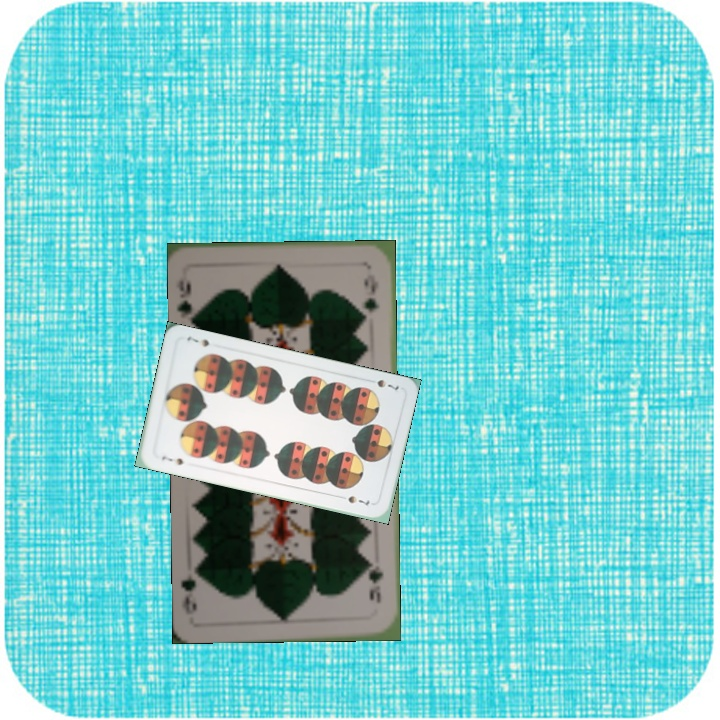G9: (174, 276, 202, 327), (364, 555, 385, 606)
S7: (363, 374, 402, 393), (157, 452, 186, 468)
